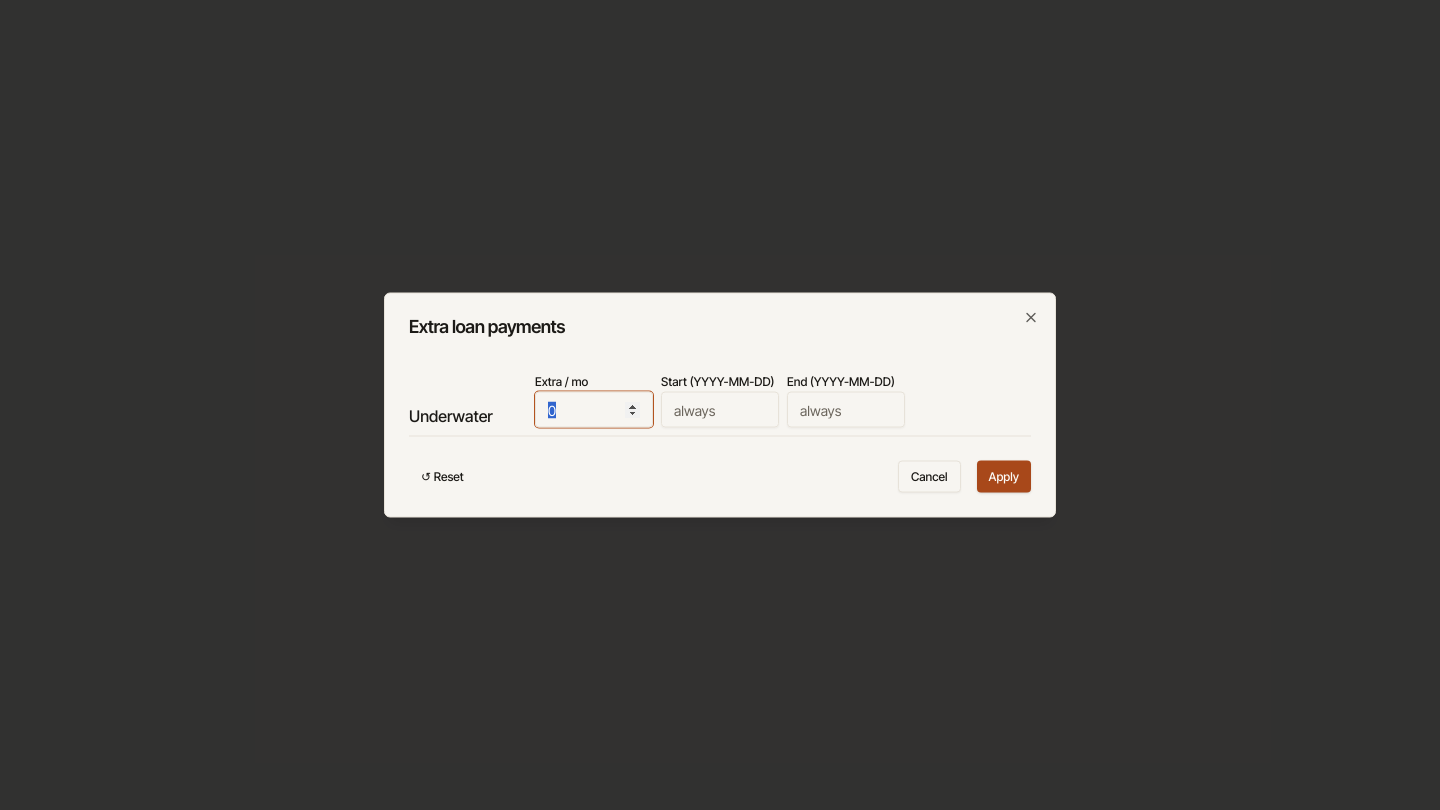
Scenario: never-pays-off guard (wave-7 W1) › replaces the preview with the warning note when payment + extra never pays off
Replace the text in the number field labelled "Extra / mo" with "25": (594, 410) [535,392,653,428]
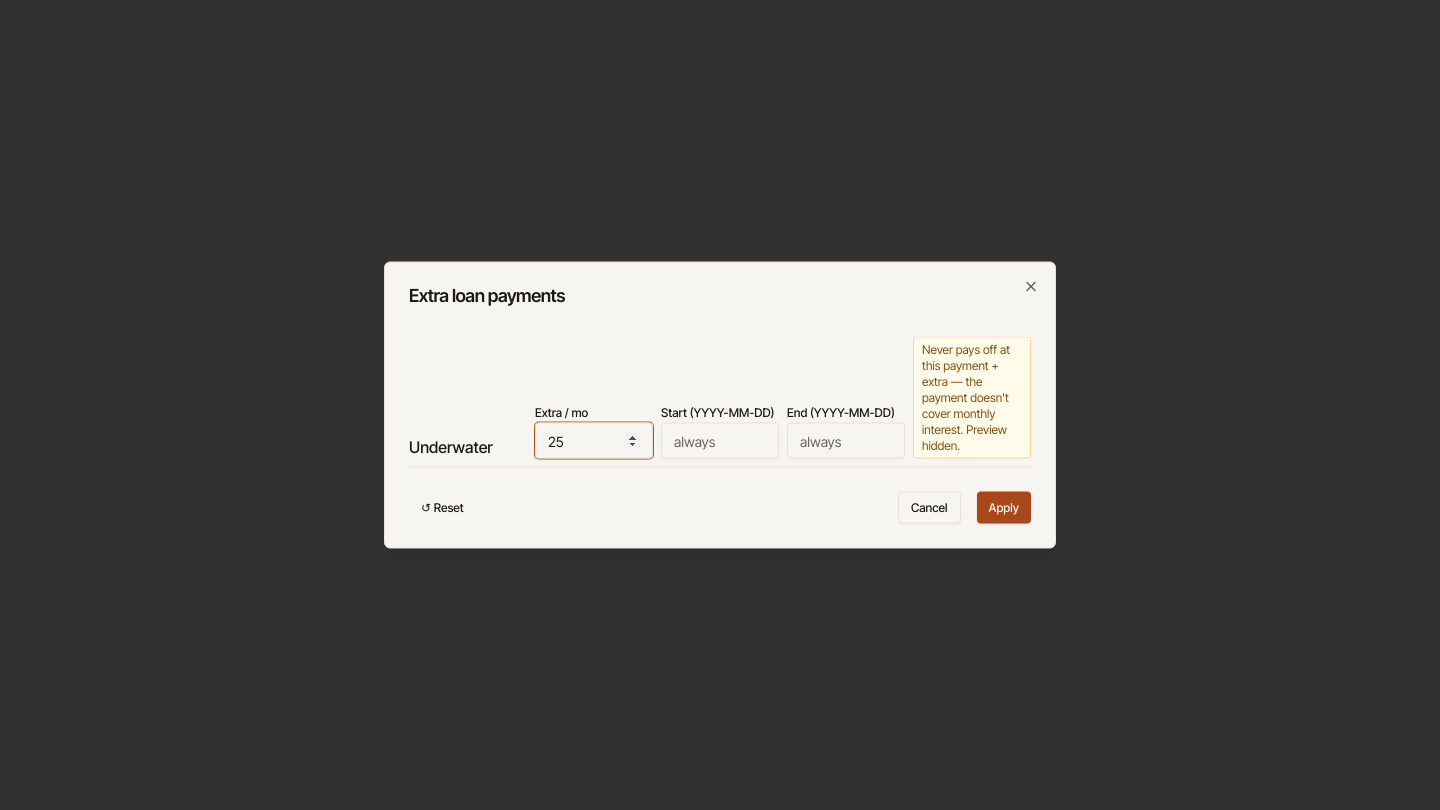
Check: the text with test id "whatif-extra-never-payoff-9" shows "Never pays off", box [922,342,1010,452]
